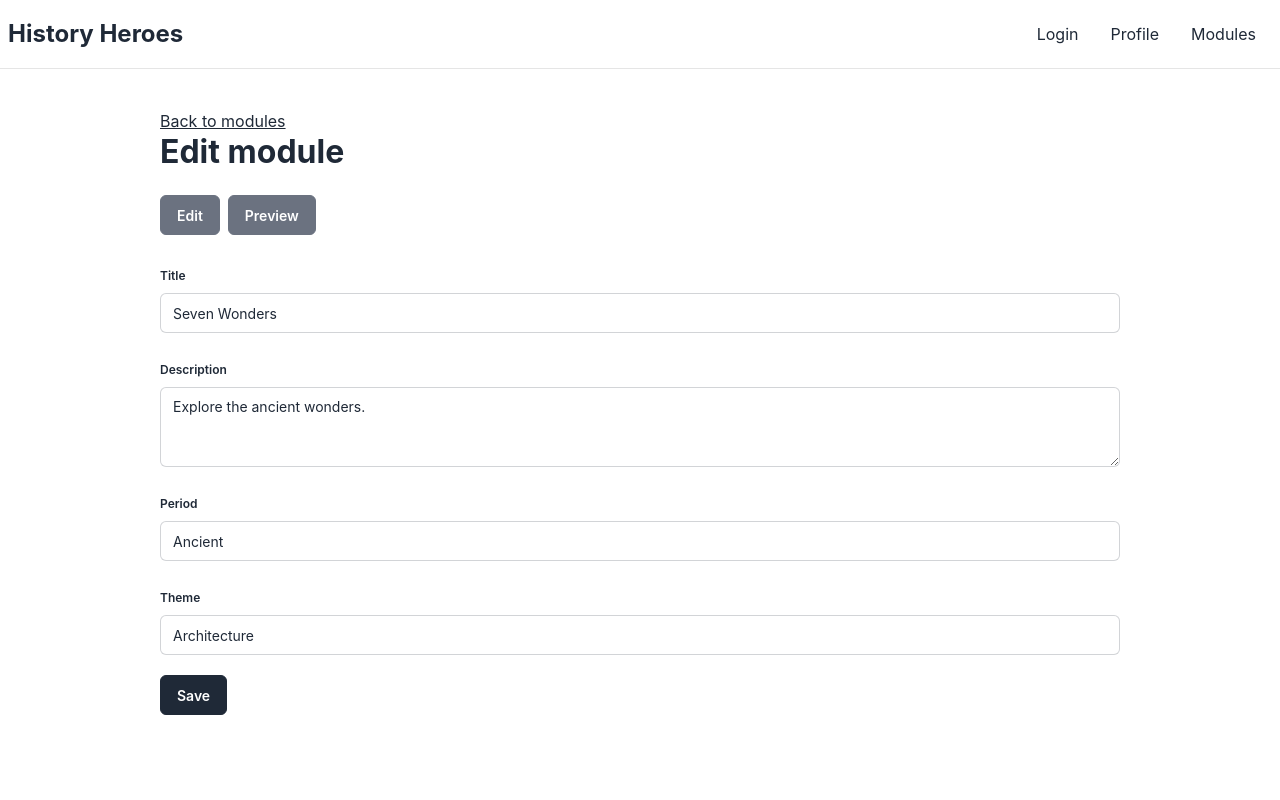
Test: renders the module editor route for content authors
This screenshot has width=1280, height=800.
Expected: the heading "Edit module" is shown, [160, 132, 344, 171]
Expected: the field labelled "Title" holds "Seven Wonders", [160, 293, 1120, 333]
Step 1. Click the button "Preview" → (272, 215), box [228, 195, 316, 235]
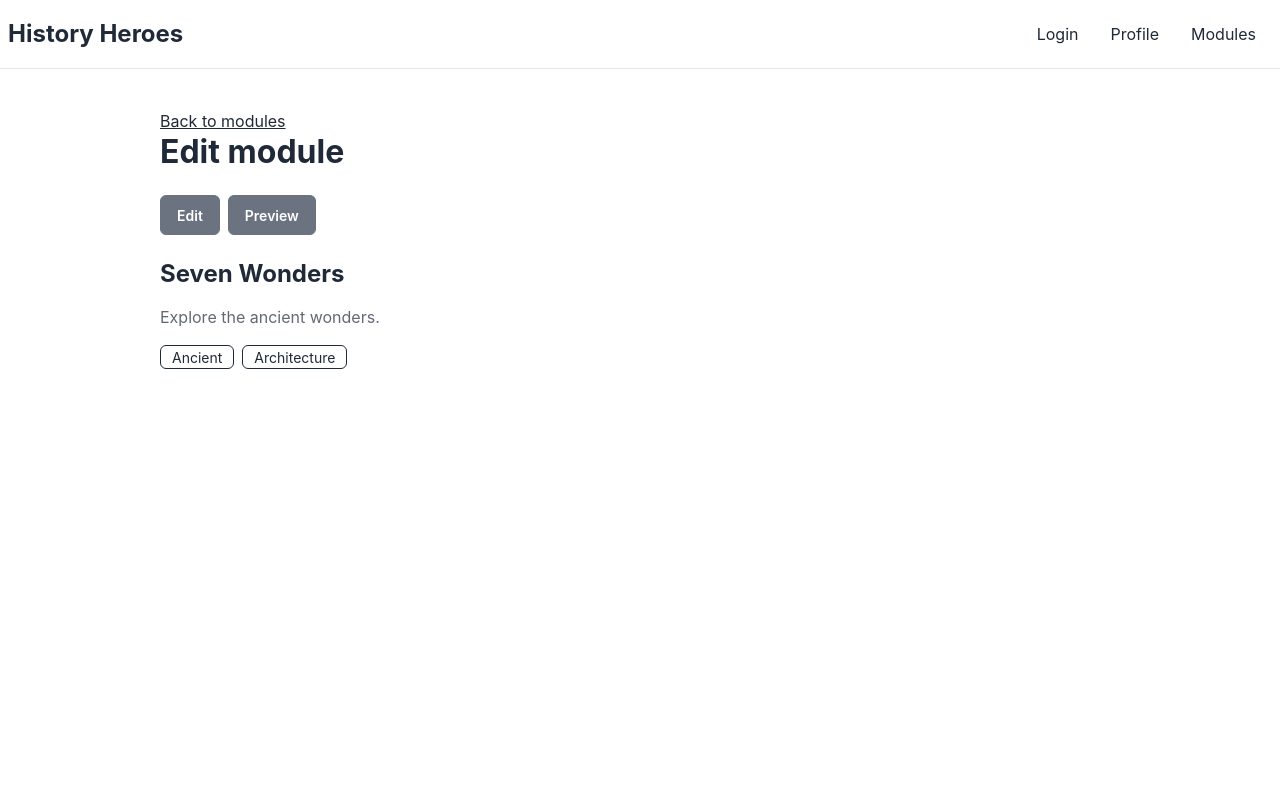
Expected: the heading "Seven Wonders" is shown, [160, 259, 344, 288]
Expected: the text "Explore the ancient wonders." is shown, [160, 307, 380, 327]
Expected: the text "Ancient" is shown, [160, 345, 234, 369]
